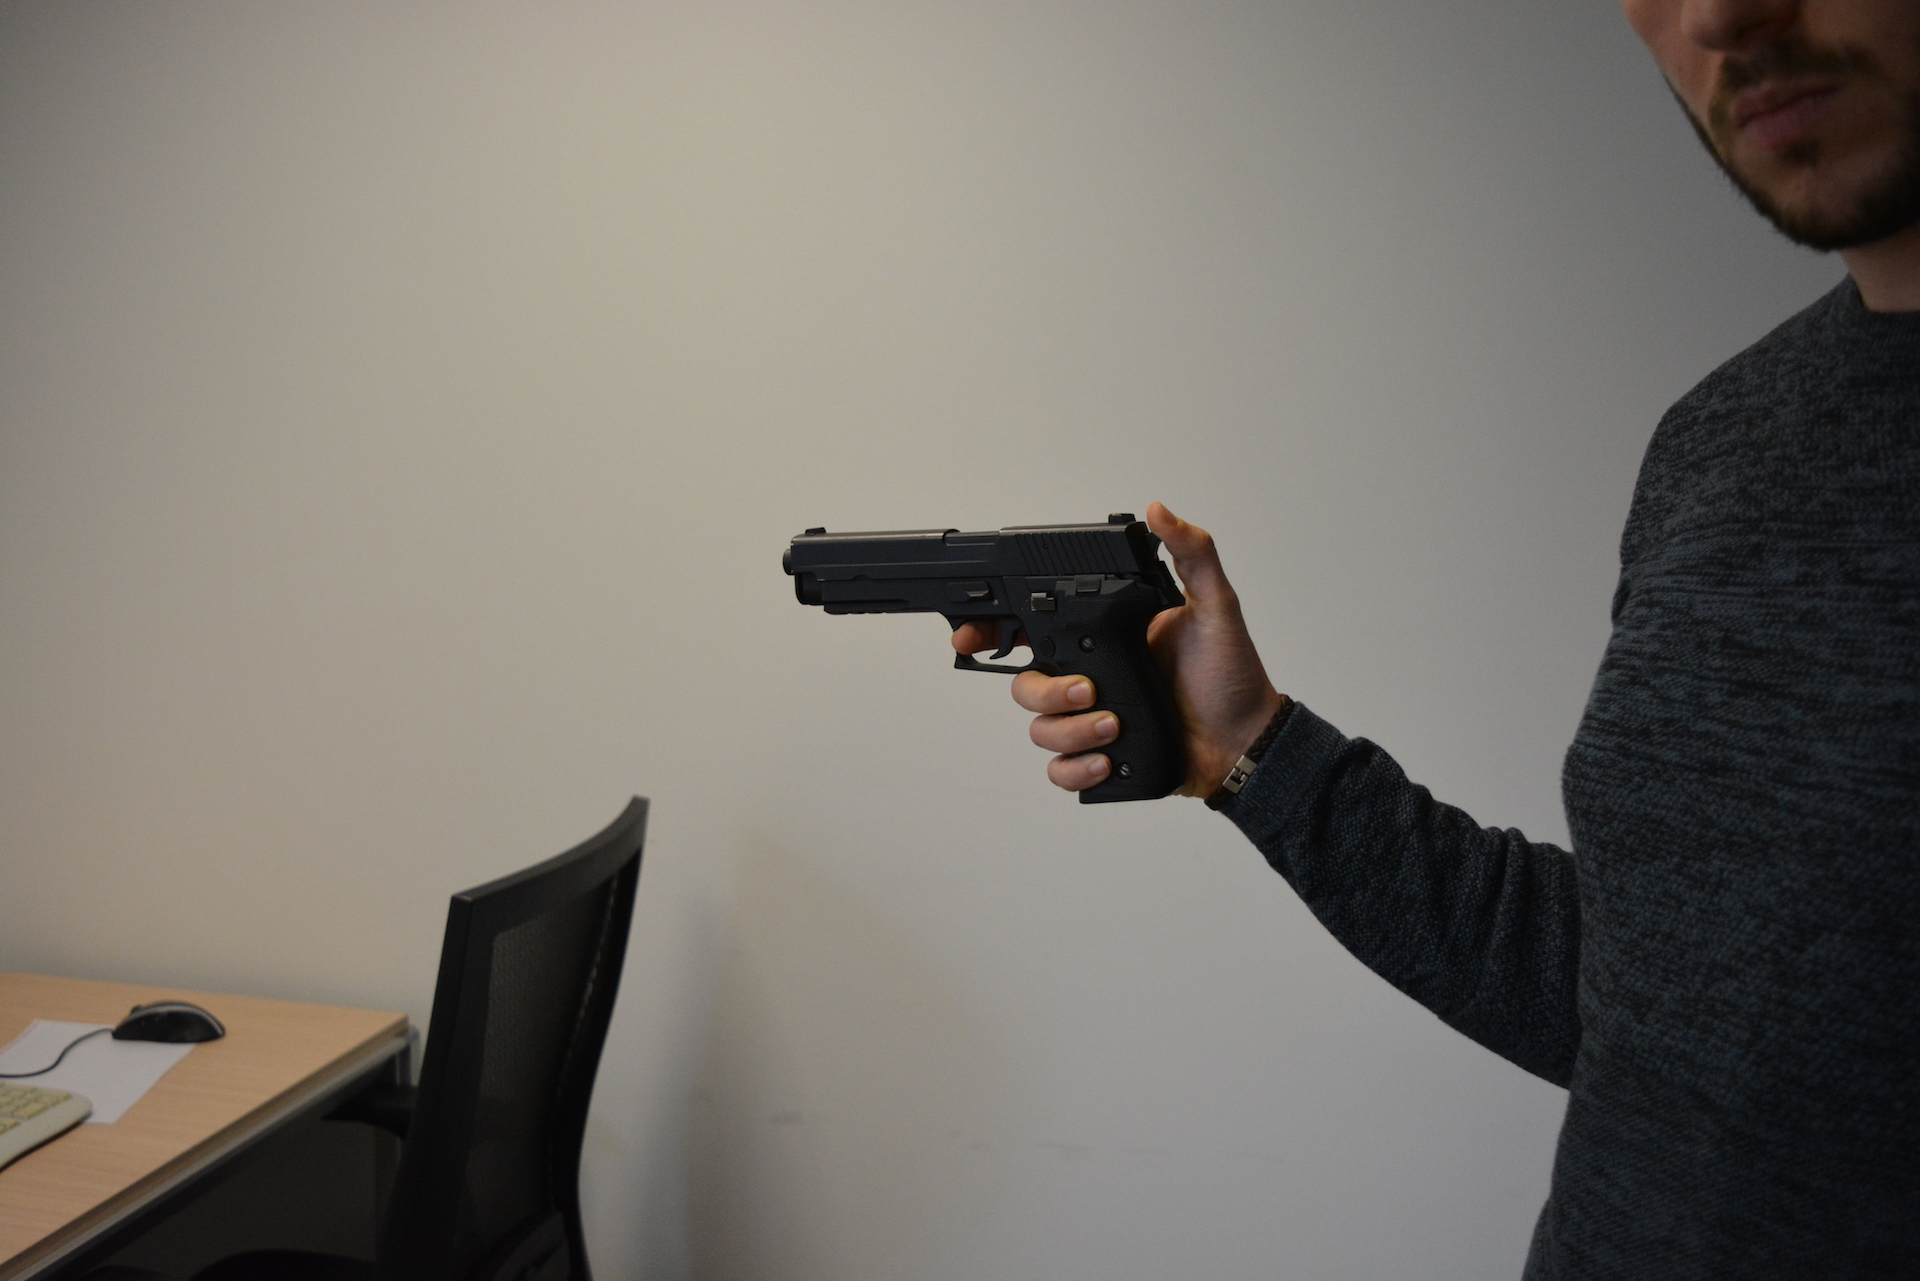pistol: (781, 510, 1195, 806)
